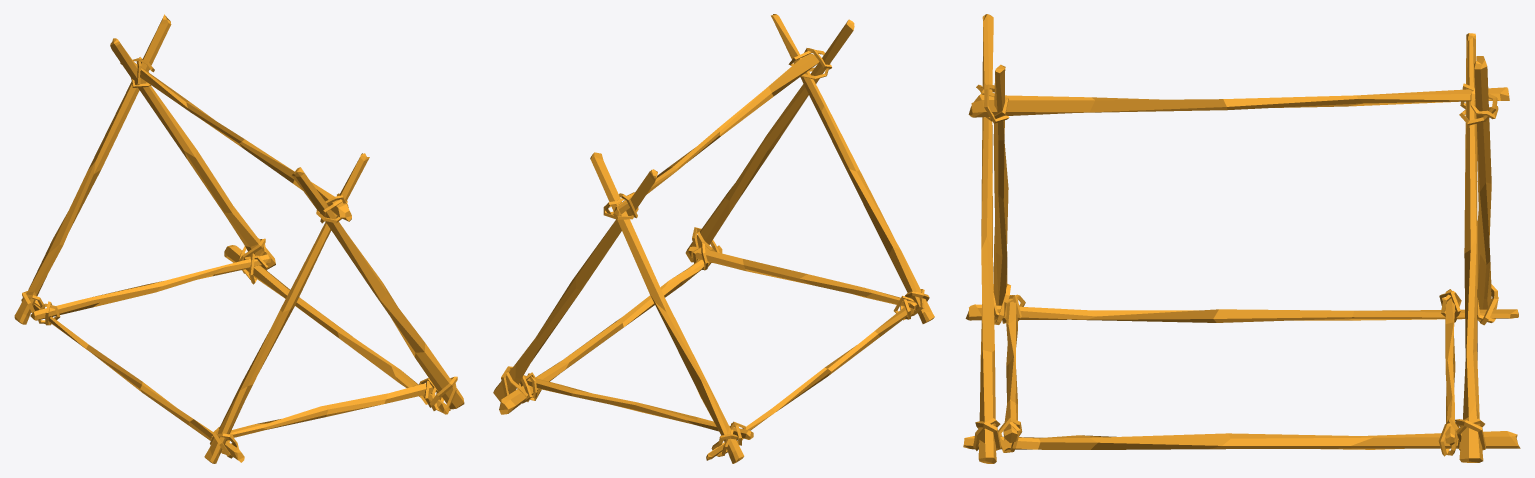
File: SM_Tent_Norseman_Plain_Construct_A_Frame_Fantasy.fbx
3 views of the same model, side by side, from view 1: azimuth 30°, elevation 25°; view 2: azimuth 150°, elevation 25°; view 3: azimuth 270°, elevation 25° (orthographic). The views are drawn at different scales.
Parts seen in each view (by area): view 1: tent-norseman-plain-construct-a-frame-fantasy; view 2: tent-norseman-plain-construct-a-frame-fantasy; view 3: tent-norseman-plain-construct-a-frame-fantasy.
Part boxes in pixels (x1,y1,x2,y2): tent-norseman-plain-construct-a-frame-fantasy: (14,14,464,463); tent-norseman-plain-construct-a-frame-fantasy: (493,14,934,463); tent-norseman-plain-construct-a-frame-fantasy: (963,14,1520,463).
Bounding box in the file's own units: 2.12 × 2.27 × 3.2.
